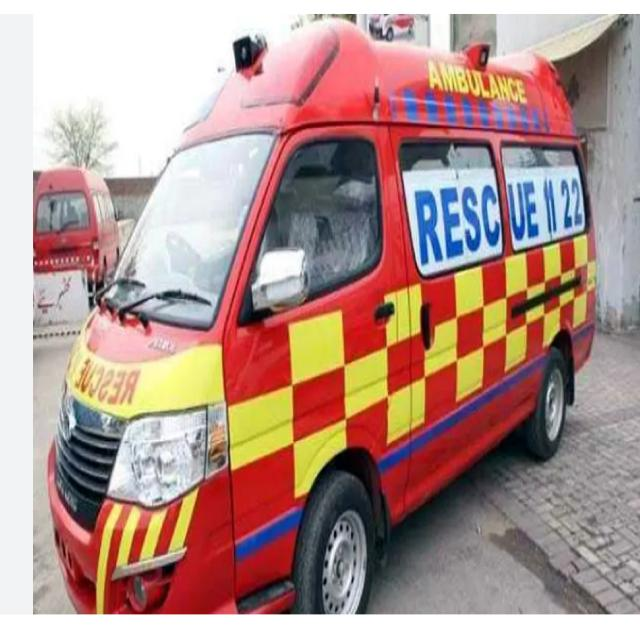ambulance: (64, 69, 594, 590)
